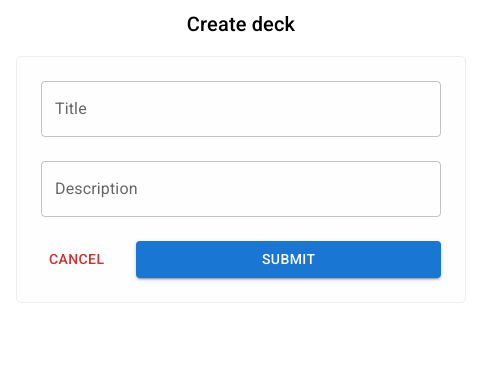
Test: Deck form component › should show required errors on empty submission
Click the button. click: (289, 259)
box: [136,241,441,278]
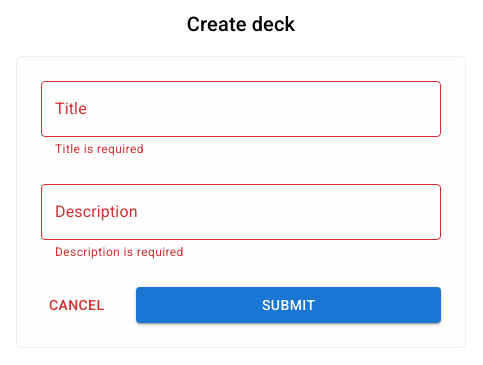
expect the text "Title is required" is shown: met, box [55,142,144,156]
expect the text "Description is required" is shown: met, box [55,245,184,259]
